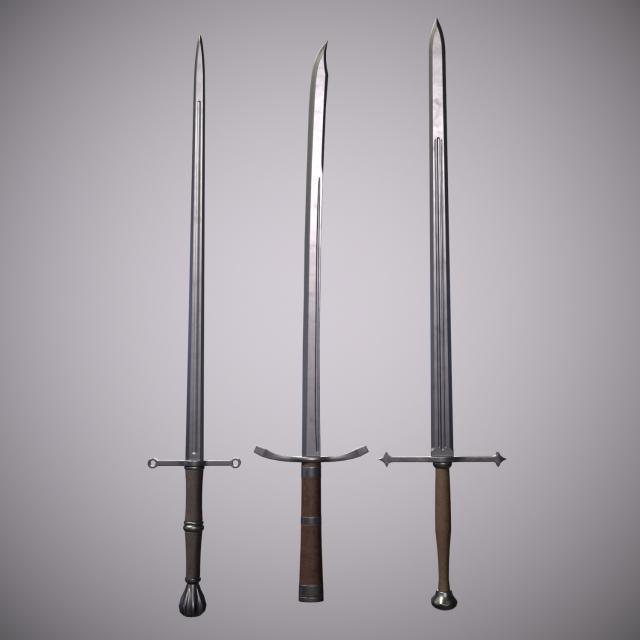sword: (382, 17, 506, 613), (253, 35, 372, 605), (144, 29, 244, 622)
